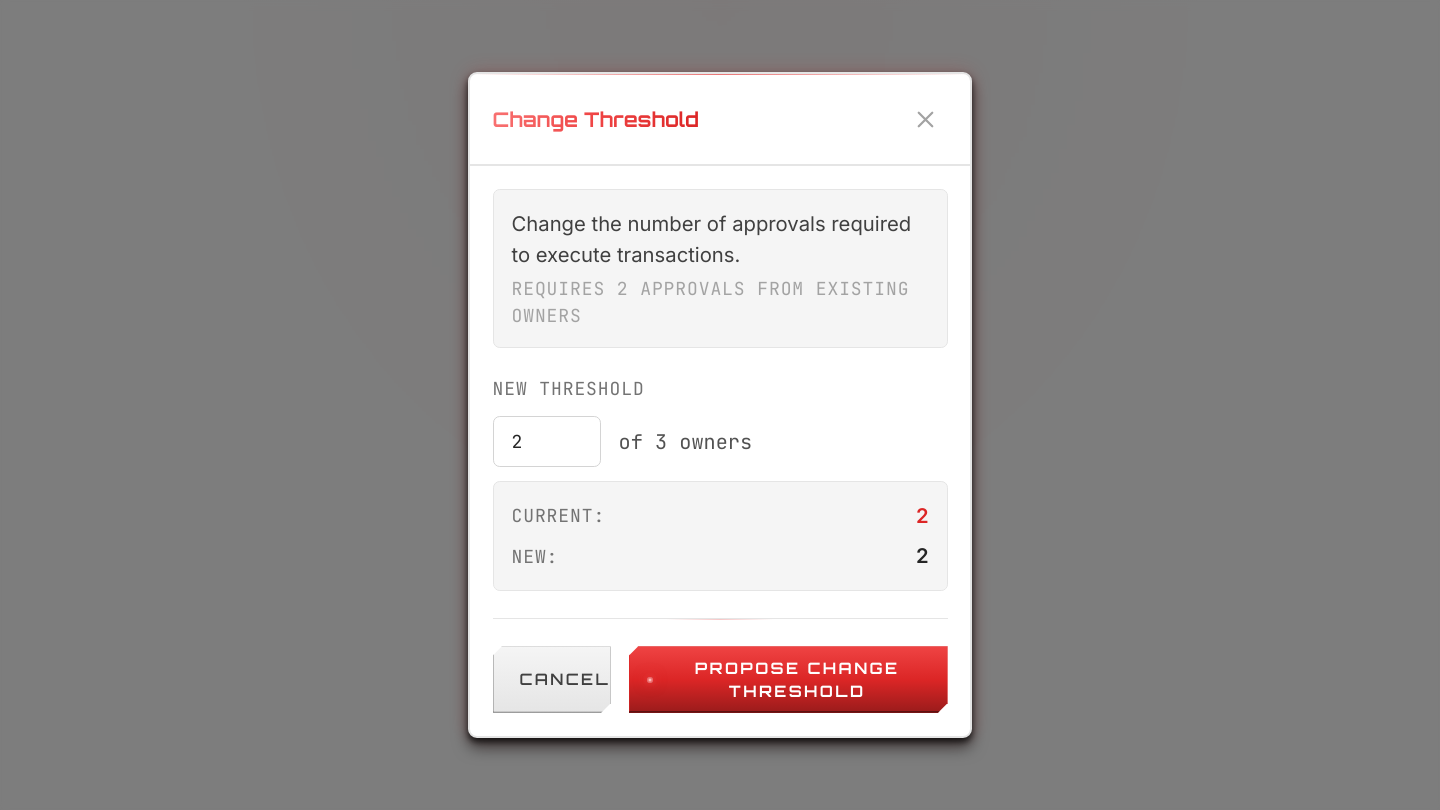
Test: migrated transaction modals › ChangeThresholdModal › clamps a threshold above the owner count
The width and height of the screenshot is (1440, 810).
Replace the text in the number field with "99" at (546, 442), box [492, 416, 600, 467]
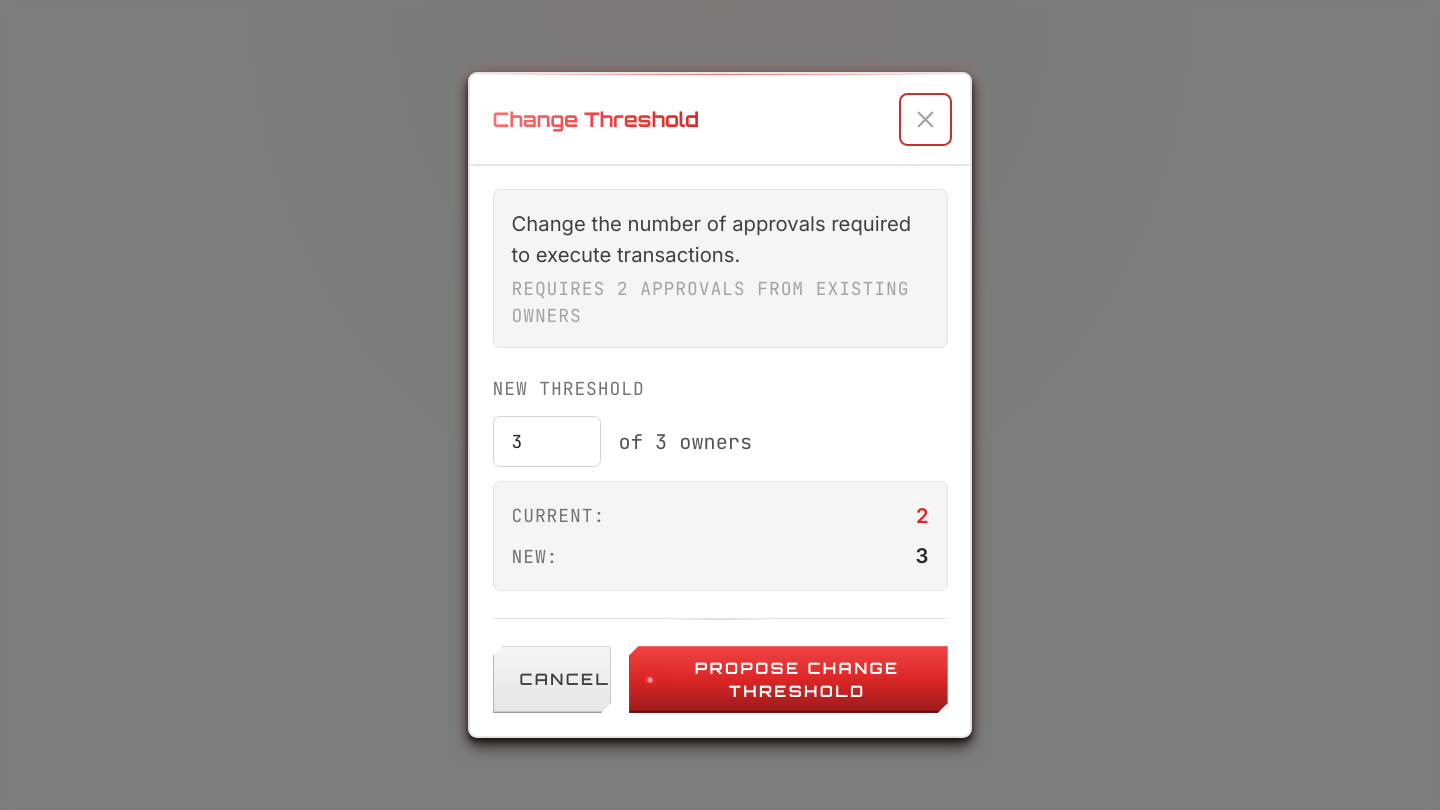
Result: the number field holds "3" at [492, 416, 600, 467]
